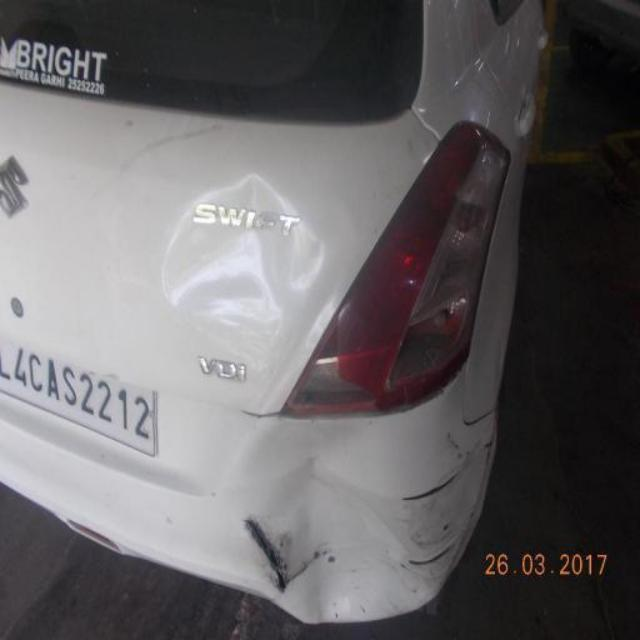dent: (241, 460, 427, 625), (159, 179, 321, 348)
rub: (404, 438, 494, 572)
